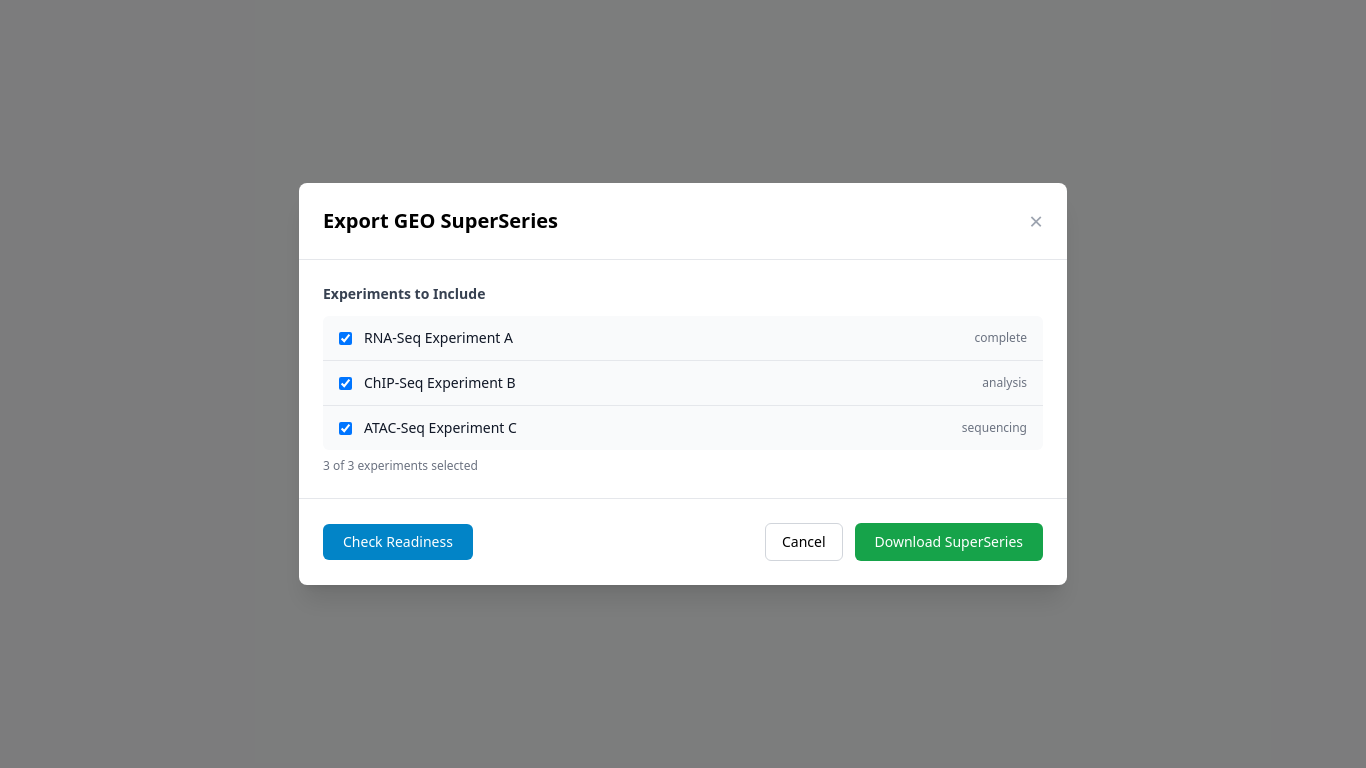
Test: SuperSeriesExportModal › validation summary displays warnings and errors
What coordinates should you click on to do the following:
click the button with test id "validate-button"
I would click on:
 (398, 542)
Its box is [323,524,473,560].
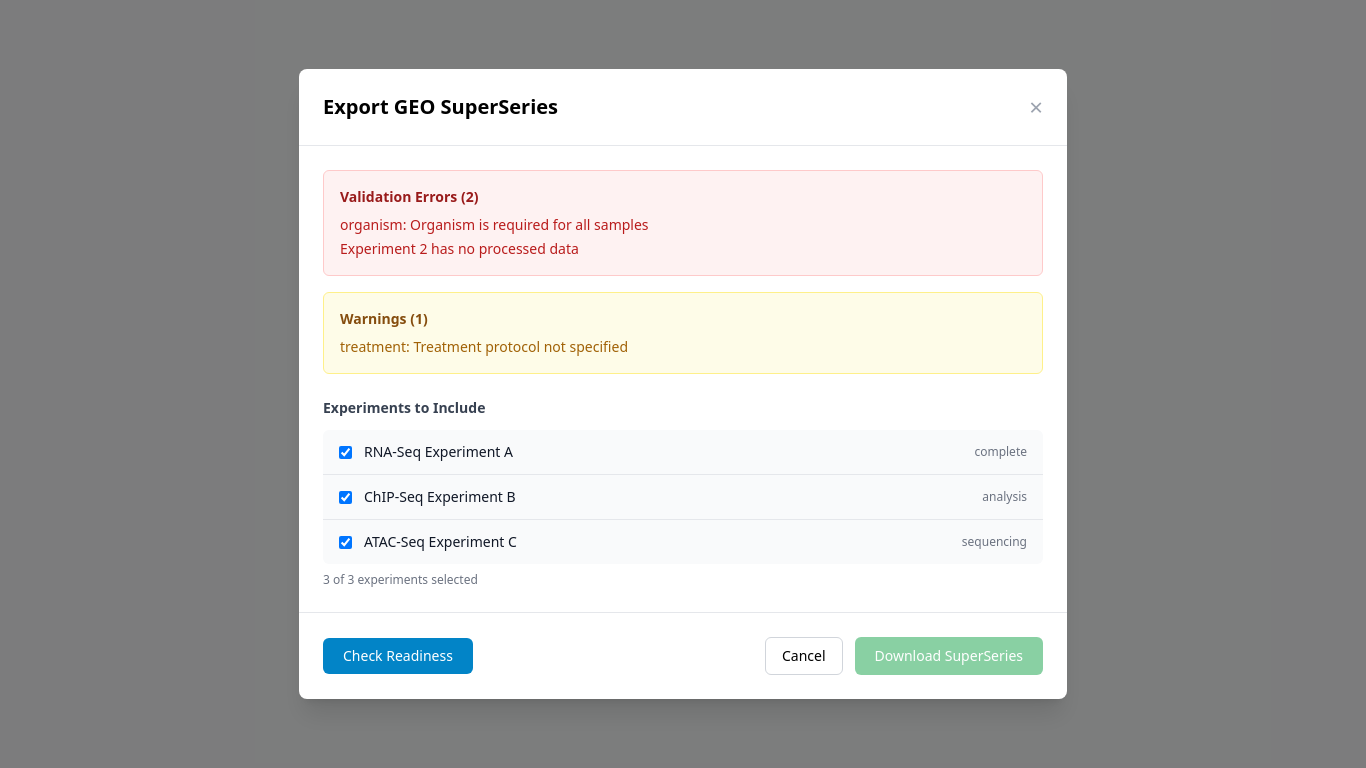
Check: the element with test id "validation-summary" is shown, box [323,170,1043,374]
Check: the number of list items with test id "validation-error" is 2, box [340,215,649,234]; [340,239,579,258]
Check: the list item with test id "validation-error" reads "organism: Organism is required for all samples", box [340,215,649,234]
